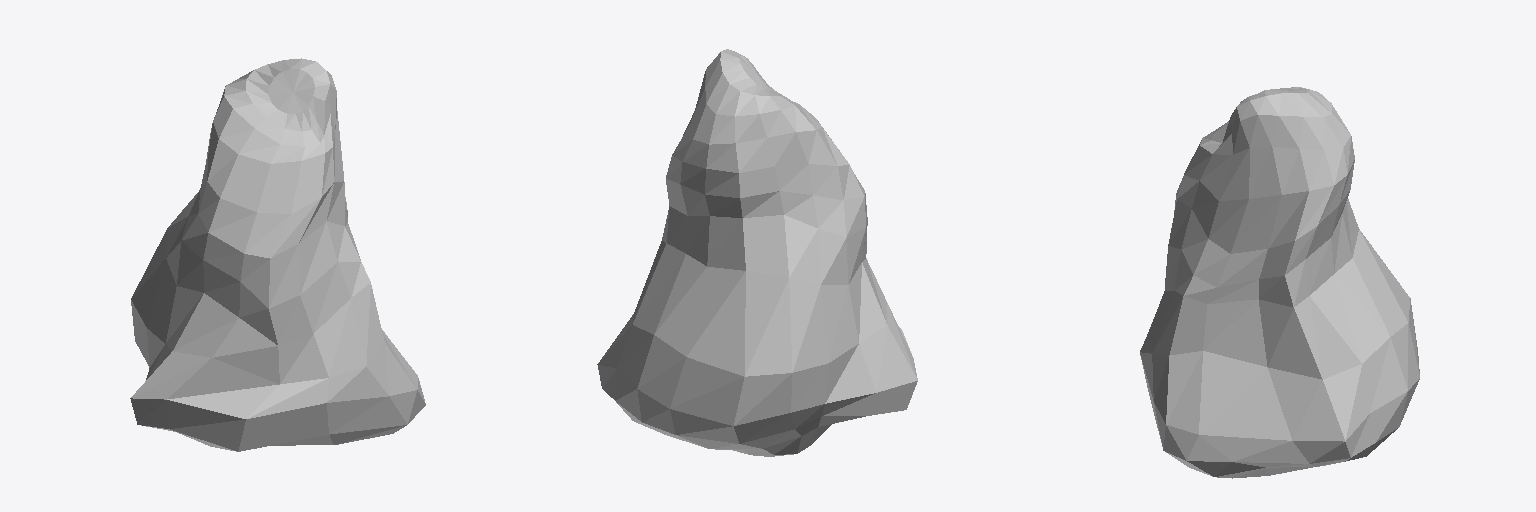
The model's file is Rock1.obj.
3 views of the same model, side by side, from view 1: azimuth 30°, elevation 25°; view 2: azimuth 150°, elevation 25°; view 3: azimuth 270°, elevation 25° (orthographic).
Parts seen in each view (by area): view 1: pSphere14; view 2: pSphere14; view 3: pSphere14.
Part boxes in pixels (x1,y1,x2,y2): pSphere14: (130, 58, 425, 451); pSphere14: (597, 49, 917, 456); pSphere14: (1140, 87, 1419, 478).
Size of the model in its own units: 3.93 by 5.08 by 3.47.